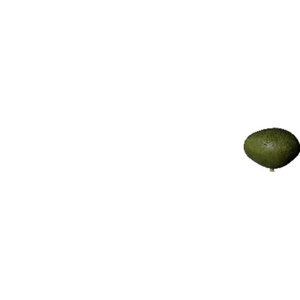abacate: (243, 122, 299, 169)
